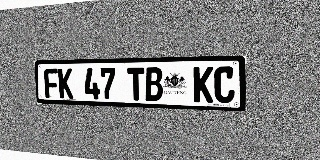4: (84, 68, 100, 99)
7: (99, 68, 116, 100)
B: (145, 67, 163, 101)
C: (214, 66, 235, 103)
F: (44, 68, 59, 98)
K: (193, 67, 213, 103), (58, 68, 73, 99)
T: (127, 67, 145, 101)
